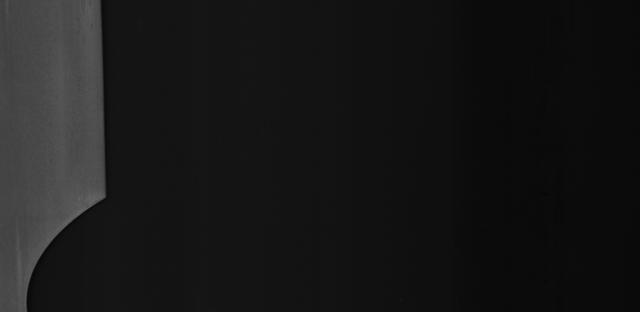crescent_gap: (16, 190, 120, 312)
